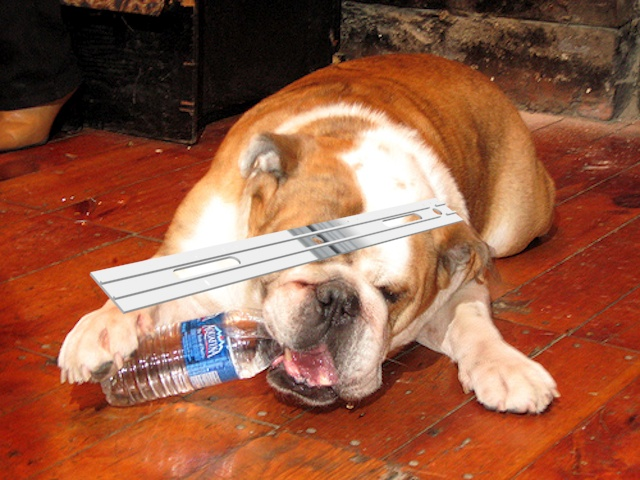ruler: (89, 193, 464, 320)
